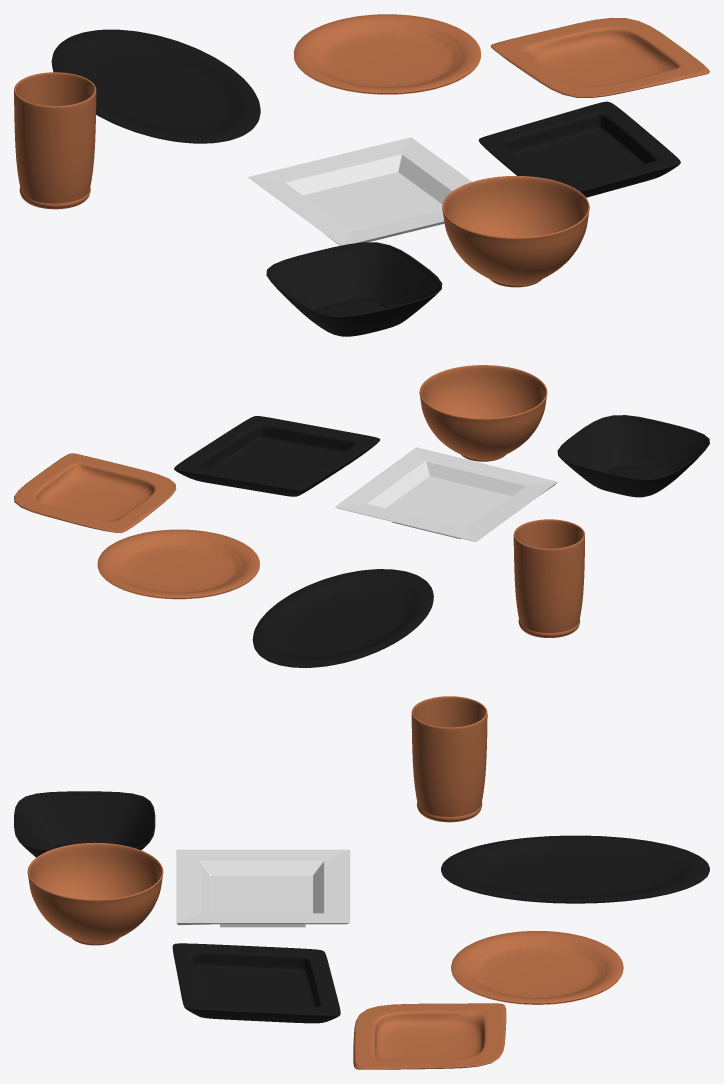
The model's file is dishs.fbx.
3 views of the same model, one above another, from view 1: azimuth 30°, elevation 25°; view 2: azimuth 150°, elevation 25°; view 3: azimuth 270°, elevation 25° (orthographic). The views are drawn at different scales.
Visible parts, largest first — view 1: plate8, plate5, plate1.001, plate7, plate2, plate6, plate3, glass.003; view 2: plate8, plate5, plate6, plate1.001, plate7, plate2, plate3, glass.003; view 3: plate8, plate5, plate6, plate1.001, plate7, plate3, glass.003, plate2.
Part boxes in pixels (bbox=[...]): plate8: bbox=[51, 29, 260, 143]; plate5: bbox=[248, 137, 471, 245]; plate1.001: bbox=[442, 176, 589, 287]; plate7: bbox=[293, 14, 480, 94]; plate2: bbox=[266, 242, 442, 336]; plate6: bbox=[478, 101, 680, 197]; plate3: bbox=[491, 17, 709, 97]; glass.003: bbox=[14, 72, 96, 209]; plate8: bbox=[252, 569, 433, 667]; plate5: bbox=[335, 447, 557, 541]; plate6: bbox=[174, 416, 380, 496]; plate1.001: bbox=[419, 365, 547, 461]; plate7: bbox=[97, 529, 259, 599]; plate2: bbox=[557, 415, 709, 497]; plate3: bbox=[14, 453, 176, 532]; glass.003: bbox=[513, 519, 584, 637]; plate8: bbox=[441, 835, 709, 903]; plate5: bbox=[176, 849, 350, 927]; plate6: bbox=[172, 943, 340, 1023]; plate1.001: bbox=[27, 842, 163, 945]; plate7: bbox=[451, 931, 623, 1004]; plate3: bbox=[353, 1003, 506, 1069]; glass.003: bbox=[411, 696, 487, 822]; plate2: bbox=[14, 791, 155, 857].
Bounding box in the file's own units: 247 × 41.49 × 252.
